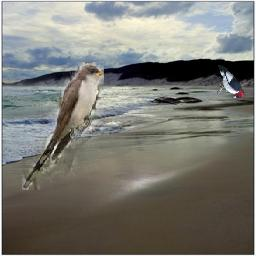Cuckoo: (22, 62, 104, 190)
Woodpecker: (216, 66, 245, 99)
